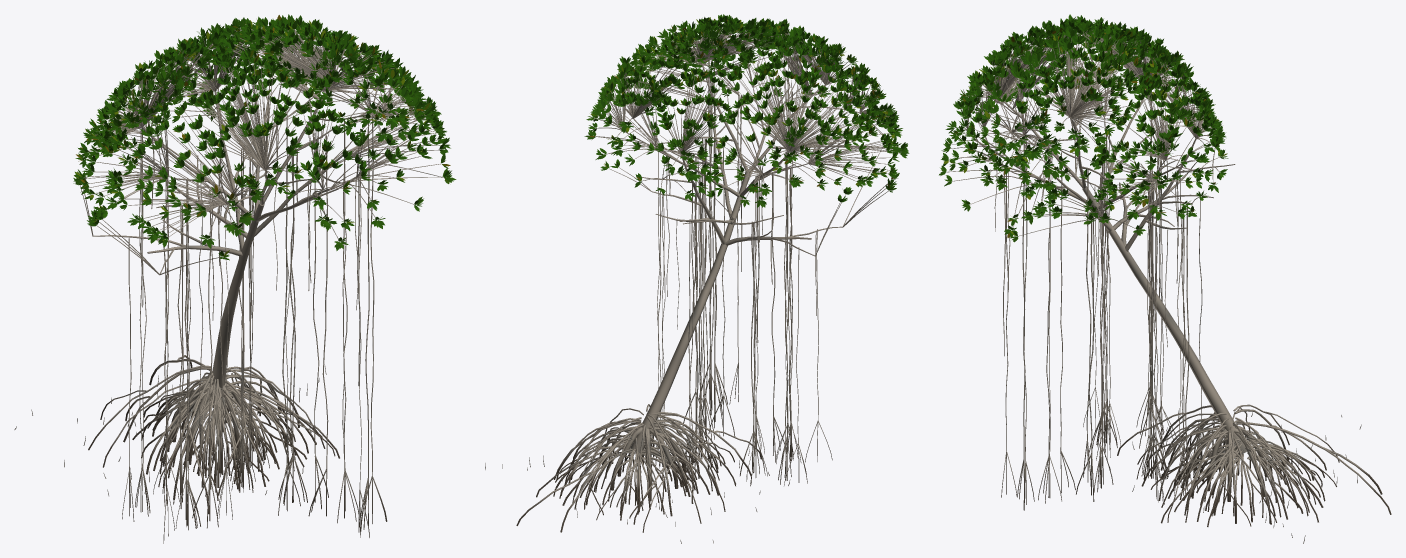
File: RedMangrove_10_CanopyLean.fbx
3 renders of one model, left to right at view 1: azimuth 30°, elevation 25°; view 2: azimuth 150°, elevation 25°; view 3: azimuth 270°, elevation 25°, orthographic. The views are drawn at different scales.
Parts seen in each view (by area): view 1: RedMangrove_10_CanopyLean_LOD0; view 2: RedMangrove_10_CanopyLean_LOD0; view 3: RedMangrove_10_CanopyLean_LOD0.
Part boxes in pixels (x1,y1,x2,y2): RedMangrove_10_CanopyLean_LOD0: (14, 14, 456, 543); RedMangrove_10_CanopyLean_LOD0: (485, 14, 909, 543); RedMangrove_10_CanopyLean_LOD0: (939, 14, 1391, 543).
Size of what is drawn, in the model's own units: 8.23 by 10.64 by 9.98.
